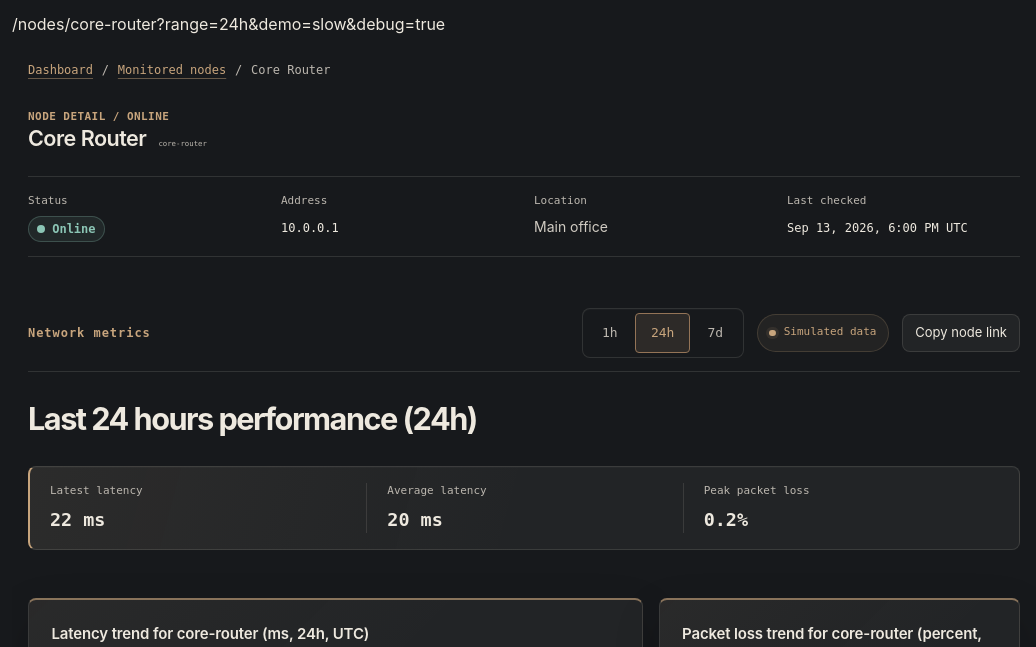
NetworkNodeDetailsPage › copies a clean node detail URL and announces success
expect the heading "Last 24 hours performance (24h)" is shown: met, box left=28, top=400, right=477, bottom=437
Click the button "Copy node link": x=961, y=333 left=902, top=314, right=1020, bottom=352
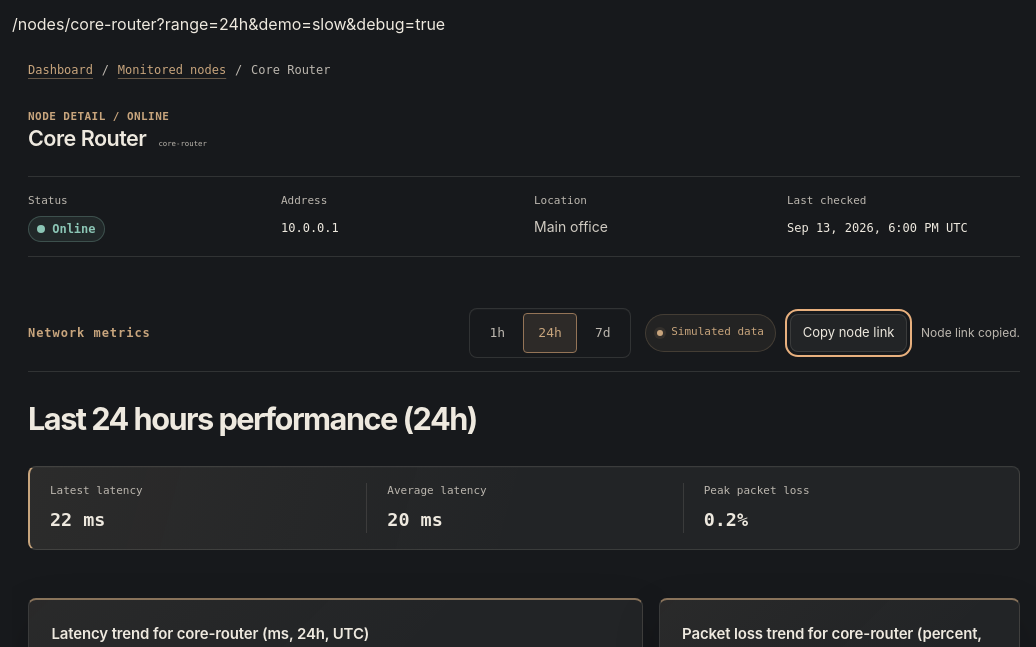
expect the message reads "Node link copied.": met, box left=921, top=325, right=1020, bottom=340
